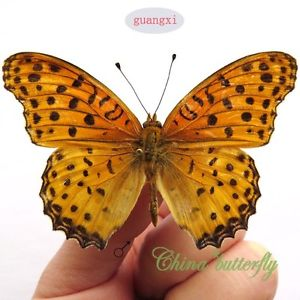Argyreus hyperbius: (1, 49, 300, 257)
butterfly: (1, 47, 300, 255)
